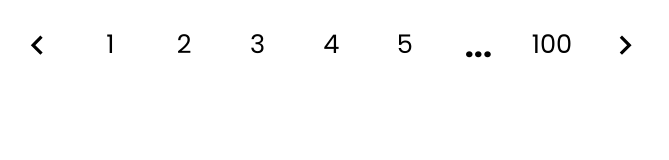
Wnen page is clicked › should display the clicked page
The width and height of the screenshot is (669, 160).
expect the button "1" is shown: met, box top-left (82, 16), bottom-right (138, 74)
expect the button "2" is shown: met, box top-left (155, 16), bottom-right (213, 74)
Click the button "100" at (552, 45), box top-left (523, 16), bottom-right (581, 74)
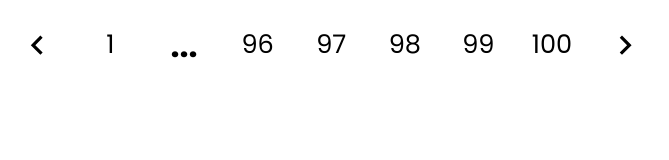
expect the button "96" is shown: met, box top-left (229, 16), bottom-right (286, 74)
expect the button "97" is shown: met, box top-left (302, 16), bottom-right (360, 74)
expect the button "98" is shown: met, box top-left (376, 16), bottom-right (434, 74)
